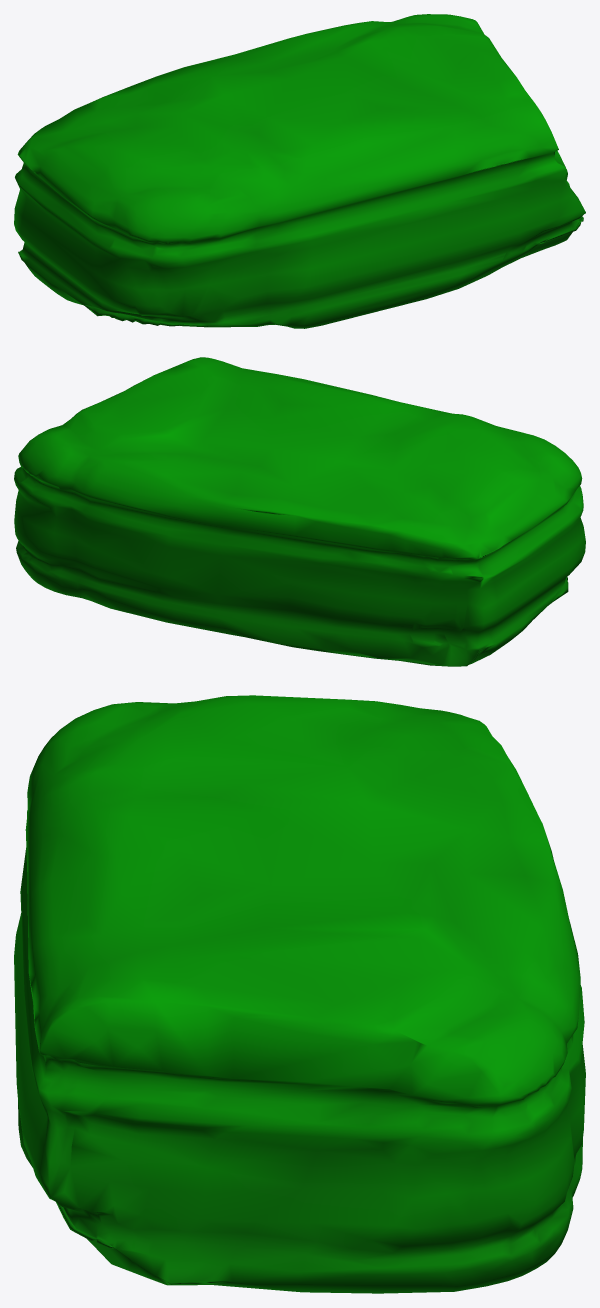
Rendered from outcrop_a.glb.
3 views of the same model, one above another, from view 1: azimuth 30°, elevation 25°; view 2: azimuth 150°, elevation 25°; view 3: azimuth 270°, elevation 25° (orthographic). The views are drawn at different scales.
Parts seen in each view (by area): view 1: LOD0; view 2: LOD0; view 3: LOD0.
Part boxes in pixels (box(x1,y1,x2,y2)): LOD0: box(14, 14, 585, 328); LOD0: box(14, 357, 585, 666); LOD0: box(14, 695, 585, 1293).
Size of what is drawn, in the model's own units: 7.42 by 2.3 by 4.49.
